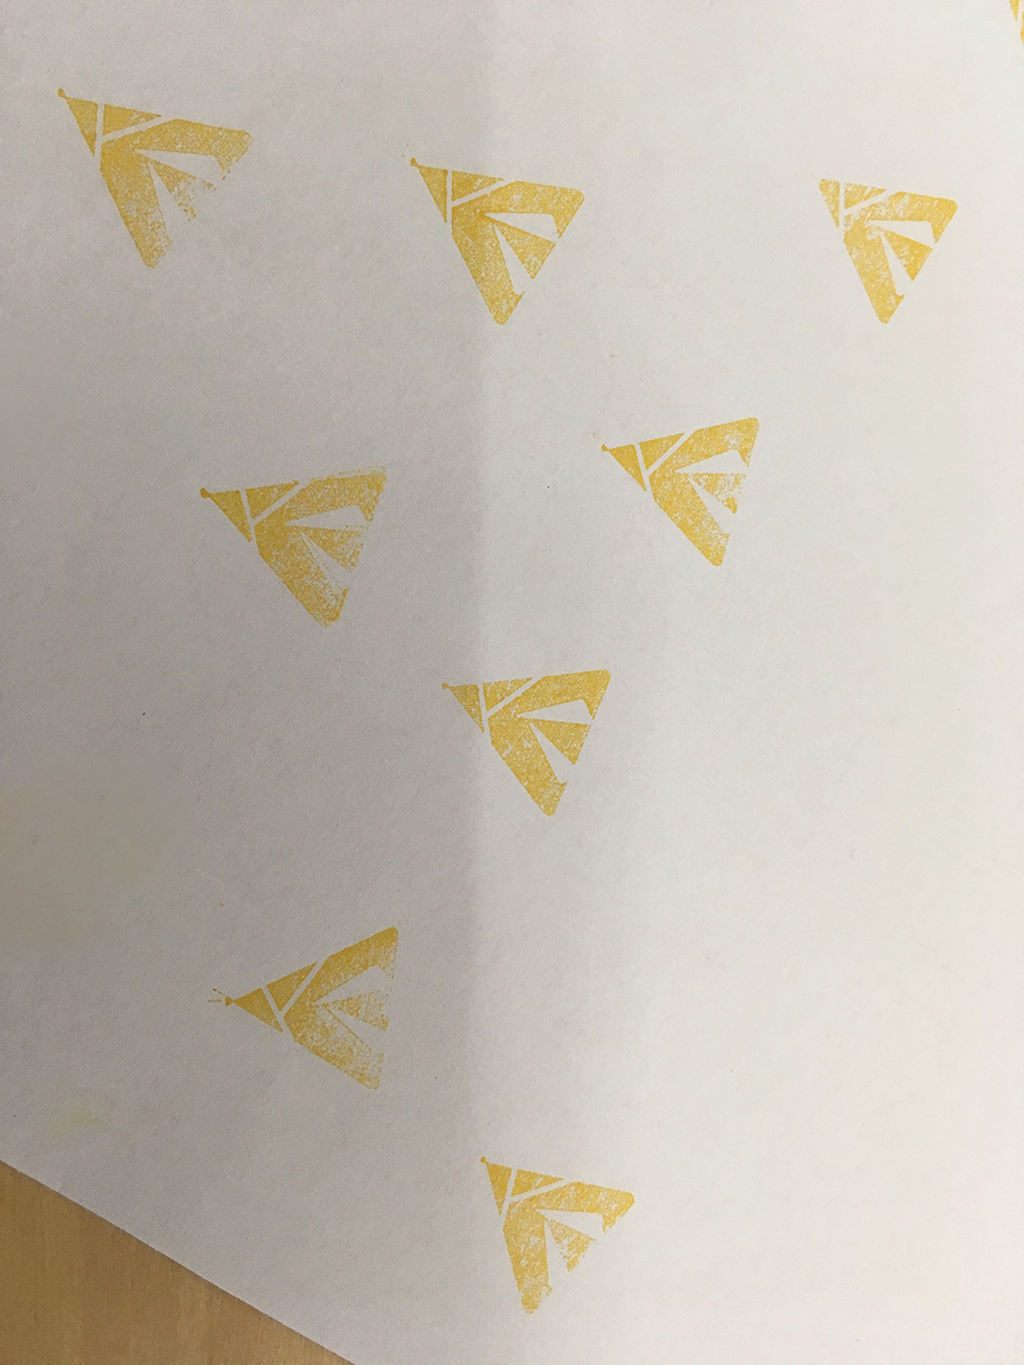tent: (48, 82, 262, 292), (200, 909, 401, 1100), (187, 461, 394, 638), (406, 155, 598, 335), (587, 408, 779, 577), (431, 662, 624, 827), (468, 1151, 645, 1325), (805, 161, 973, 335)
